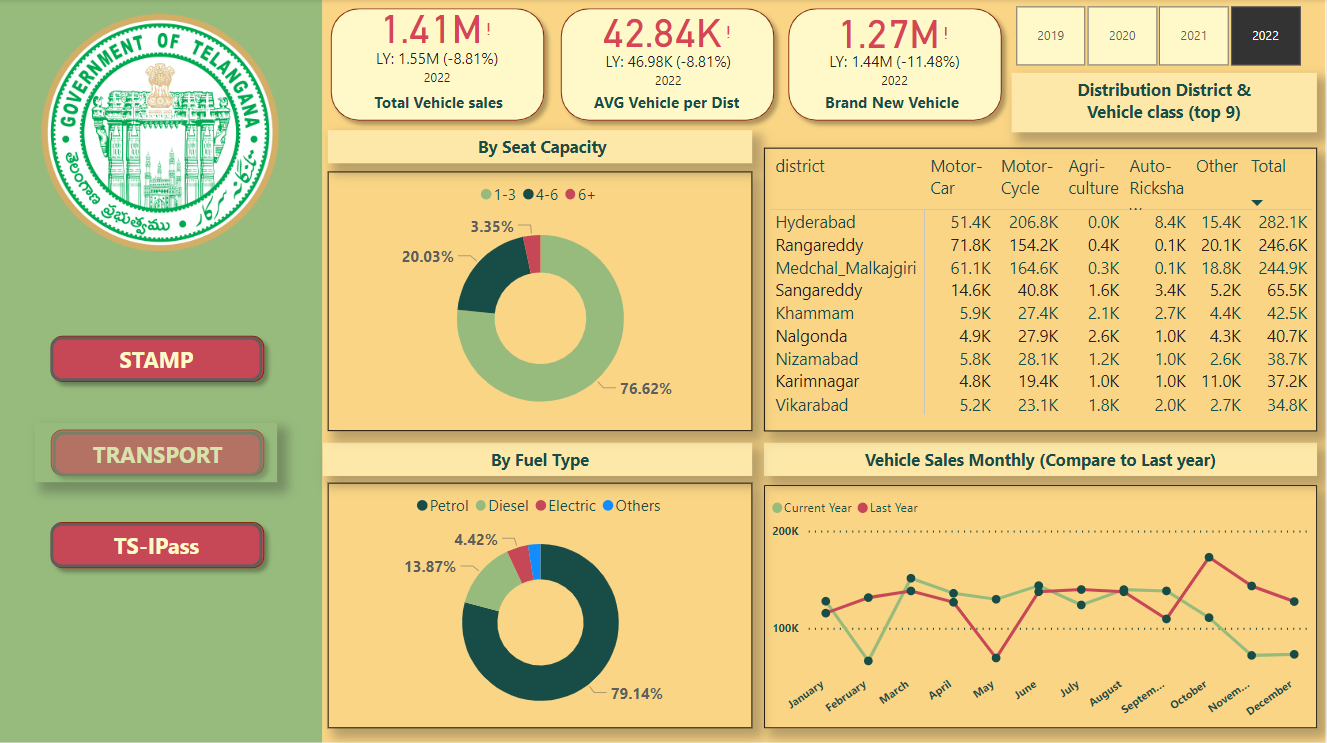

The dashboard page shown, as its layout file describes it:
{"tool":"powerbi","page":{"name":"Transport","canvas":[1280,720],"ordinal":1},"visuals":[{"type":"image","box":[36.2,9.6,238.8,238.8],"z":0},{"type":"shape","box":[311.6,0.2,224.3,126.6],"z":1000},{"type":"kpi","fields":{"TrendLine":["dim_date.fiscal_year"],"Goal":["fact_transport.Total_vehicle_sale_LY"],"Indicator":["fact_transport.Total_vehicle_Sell"]},"box":[330.9,11.5,184.6,72.6],"z":2000},{"type":"shape","box":[533.1,0,224.3,126.6],"z":3000},{"type":"kpi","fields":{"Goal":["fact_transport.AVG_vehicle_per_dist_LY"],"TrendLine":["dim_date.fiscal_year"],"Indicator":["fact_transport.AVG_vehicle_per_dist"]},"box":[553.5,13.4,184.5,74],"z":4000},{"type":"slicer","fields":{"Values":["dim_date.fiscal_year"]},"box":[955.2,0,324.4,71.2],"z":5000},{"type":"shape","box":[752.6,0,224.3,126.6],"z":6000},{"type":"kpi","fields":{"Goal":["fact_transport.Brand_new_vehicle_sale_LY"],"TrendLine":["dim_date.fiscal_year"],"Indicator":["Sum(fact_transport.Brand_new_vehicles)"]},"box":[772.3,13.3,184.5,74.8],"z":7000},{"type":"textbox","box":[351.9,84.4,143.5,32.6],"z":8000},{"type":"textbox","box":[562.6,84,164.2,33.1],"z":9000},{"type":"textbox","box":[772.6,84,176.9,33.1],"z":10000},{"type":"textbox","box":[976.9,71.2,294.3,57.9],"z":11000},{"type":"shape","box":[40.9,316,224.3,62.7],"z":12000},{"type":"shape","box":[40.9,406.4,224.3,62.7],"z":13000},{"type":"actionButton","box":[51.9,417.3,202.6,43.4],"z":14000},{"type":"shape","box":[41,495.7,224.3,62.7],"z":15000},{"type":"actionButton","box":[49.4,325.6,205,43.4],"z":16000},{"type":"actionButton","box":[49.4,505.3,205,43.4],"z":17000},{"type":"textbox","box":[35,408.8,234,57.9],"z":18000},{"type":"donutChart","fields":{"Y":["Sum(fact_transport.fuel_type_petrol)","Sum(fact_transport.fuel_type_diesel)","Sum(fact_transport.fuel_type_electric)","Sum(fact_transport.fuel_type_others)"]},"box":[317.3,466.9,409.4,236.7],"z":19000},{"type":"donutChart","fields":{"Y":["Sum(fact_transport.seatCapacity_1_to_3)","Sum(fact_transport.seatCapacity_4_to_6)","Sum(fact_transport.seatCapacity_above_6)"]},"box":[317.3,166.3,409.4,250.7],"z":20000},{"type":"pivotTable","fields":{"Rows":["dim_districts.district"],"Values":["fact_transport.Total_motorcar_sell","fact_transport.Total_motorcycle_sell","fact_transport.Total_agriculture_sell","fact_transport.Total_autorickshaw_sell","fact_transport.Total_others_sell","fact_transport.Total_vehicle_Sell"]},"box":[738.1,143.3,533.4,273.8],"z":21000},{"type":"textbox","box":[317.3,126.6,409.4,32],"z":22000},{"type":"textbox","box":[312.1,428.5,414.5,32],"z":23000},{"type":"lineChart","fields":{"Category":["dim_date.month.Variation.Date Hierarchy.Month"],"Y":["fact_transport.Total_vehicle_Sell","fact_transport.Total_vehicle_sale_LY"]},"box":[738.1,469.5,533.4,234.1],"z":24000},{"type":"textbox","box":[738.1,428.5,533.4,32],"z":25000}]}

Visuals, with their boxes in screenshot pixels (x1, y1, x2, y2), scaled from the page's 1280x720 canvas onto the 1327x743 screenshot:
image: 38,10,285,256
shape: 323,0,556,131
kpi - dim_date.fiscal_year x fact_transport.Total_vehicle_sale_LY: 343,12,534,87
shape: 553,0,785,131
kpi - fact_transport.AVG_vehicle_per_dist_LY x dim_date.fiscal_year: 574,14,765,90
slicer - dim_date.fiscal_year: 990,0,1326,73
shape: 780,0,1013,131
kpi - fact_transport.Brand_new_vehicle_sale_LY x dim_date.fiscal_year: 801,14,992,91
textbox: 365,87,514,121
textbox: 583,87,753,121
textbox: 801,87,984,121
textbox: 1013,73,1318,133
shape: 42,326,275,391
shape: 42,419,275,484
actionButton: 54,431,264,475
shape: 43,512,275,576
actionButton: 51,336,264,381
actionButton: 51,521,264,566
textbox: 36,422,279,482
donutChart - Sum(fact_transport.fuel_type_petrol) x Sum(fact_transport.fuel_type_diesel): 329,482,753,726
donutChart - Sum(fact_transport.seatCapacity_1_to_3) x Sum(fact_transport.seatCapacity_4_to_6): 329,172,753,430
pivotTable - dim_districts.district x fact_transport.Total_motorcar_sell: 765,148,1318,430
textbox: 329,131,753,164
textbox: 324,442,753,475
lineChart - dim_date.month.Variation.Date Hierarchy.Month x fact_transport.Total_vehicle_Sell: 765,484,1318,726
textbox: 765,442,1318,475
